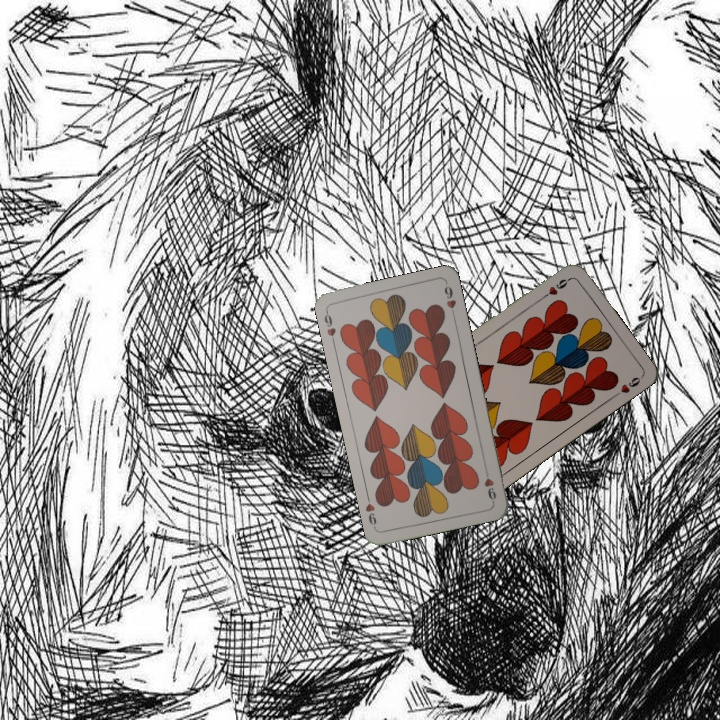H9: (538, 274, 573, 302), (480, 464, 499, 504), (320, 306, 338, 347)
